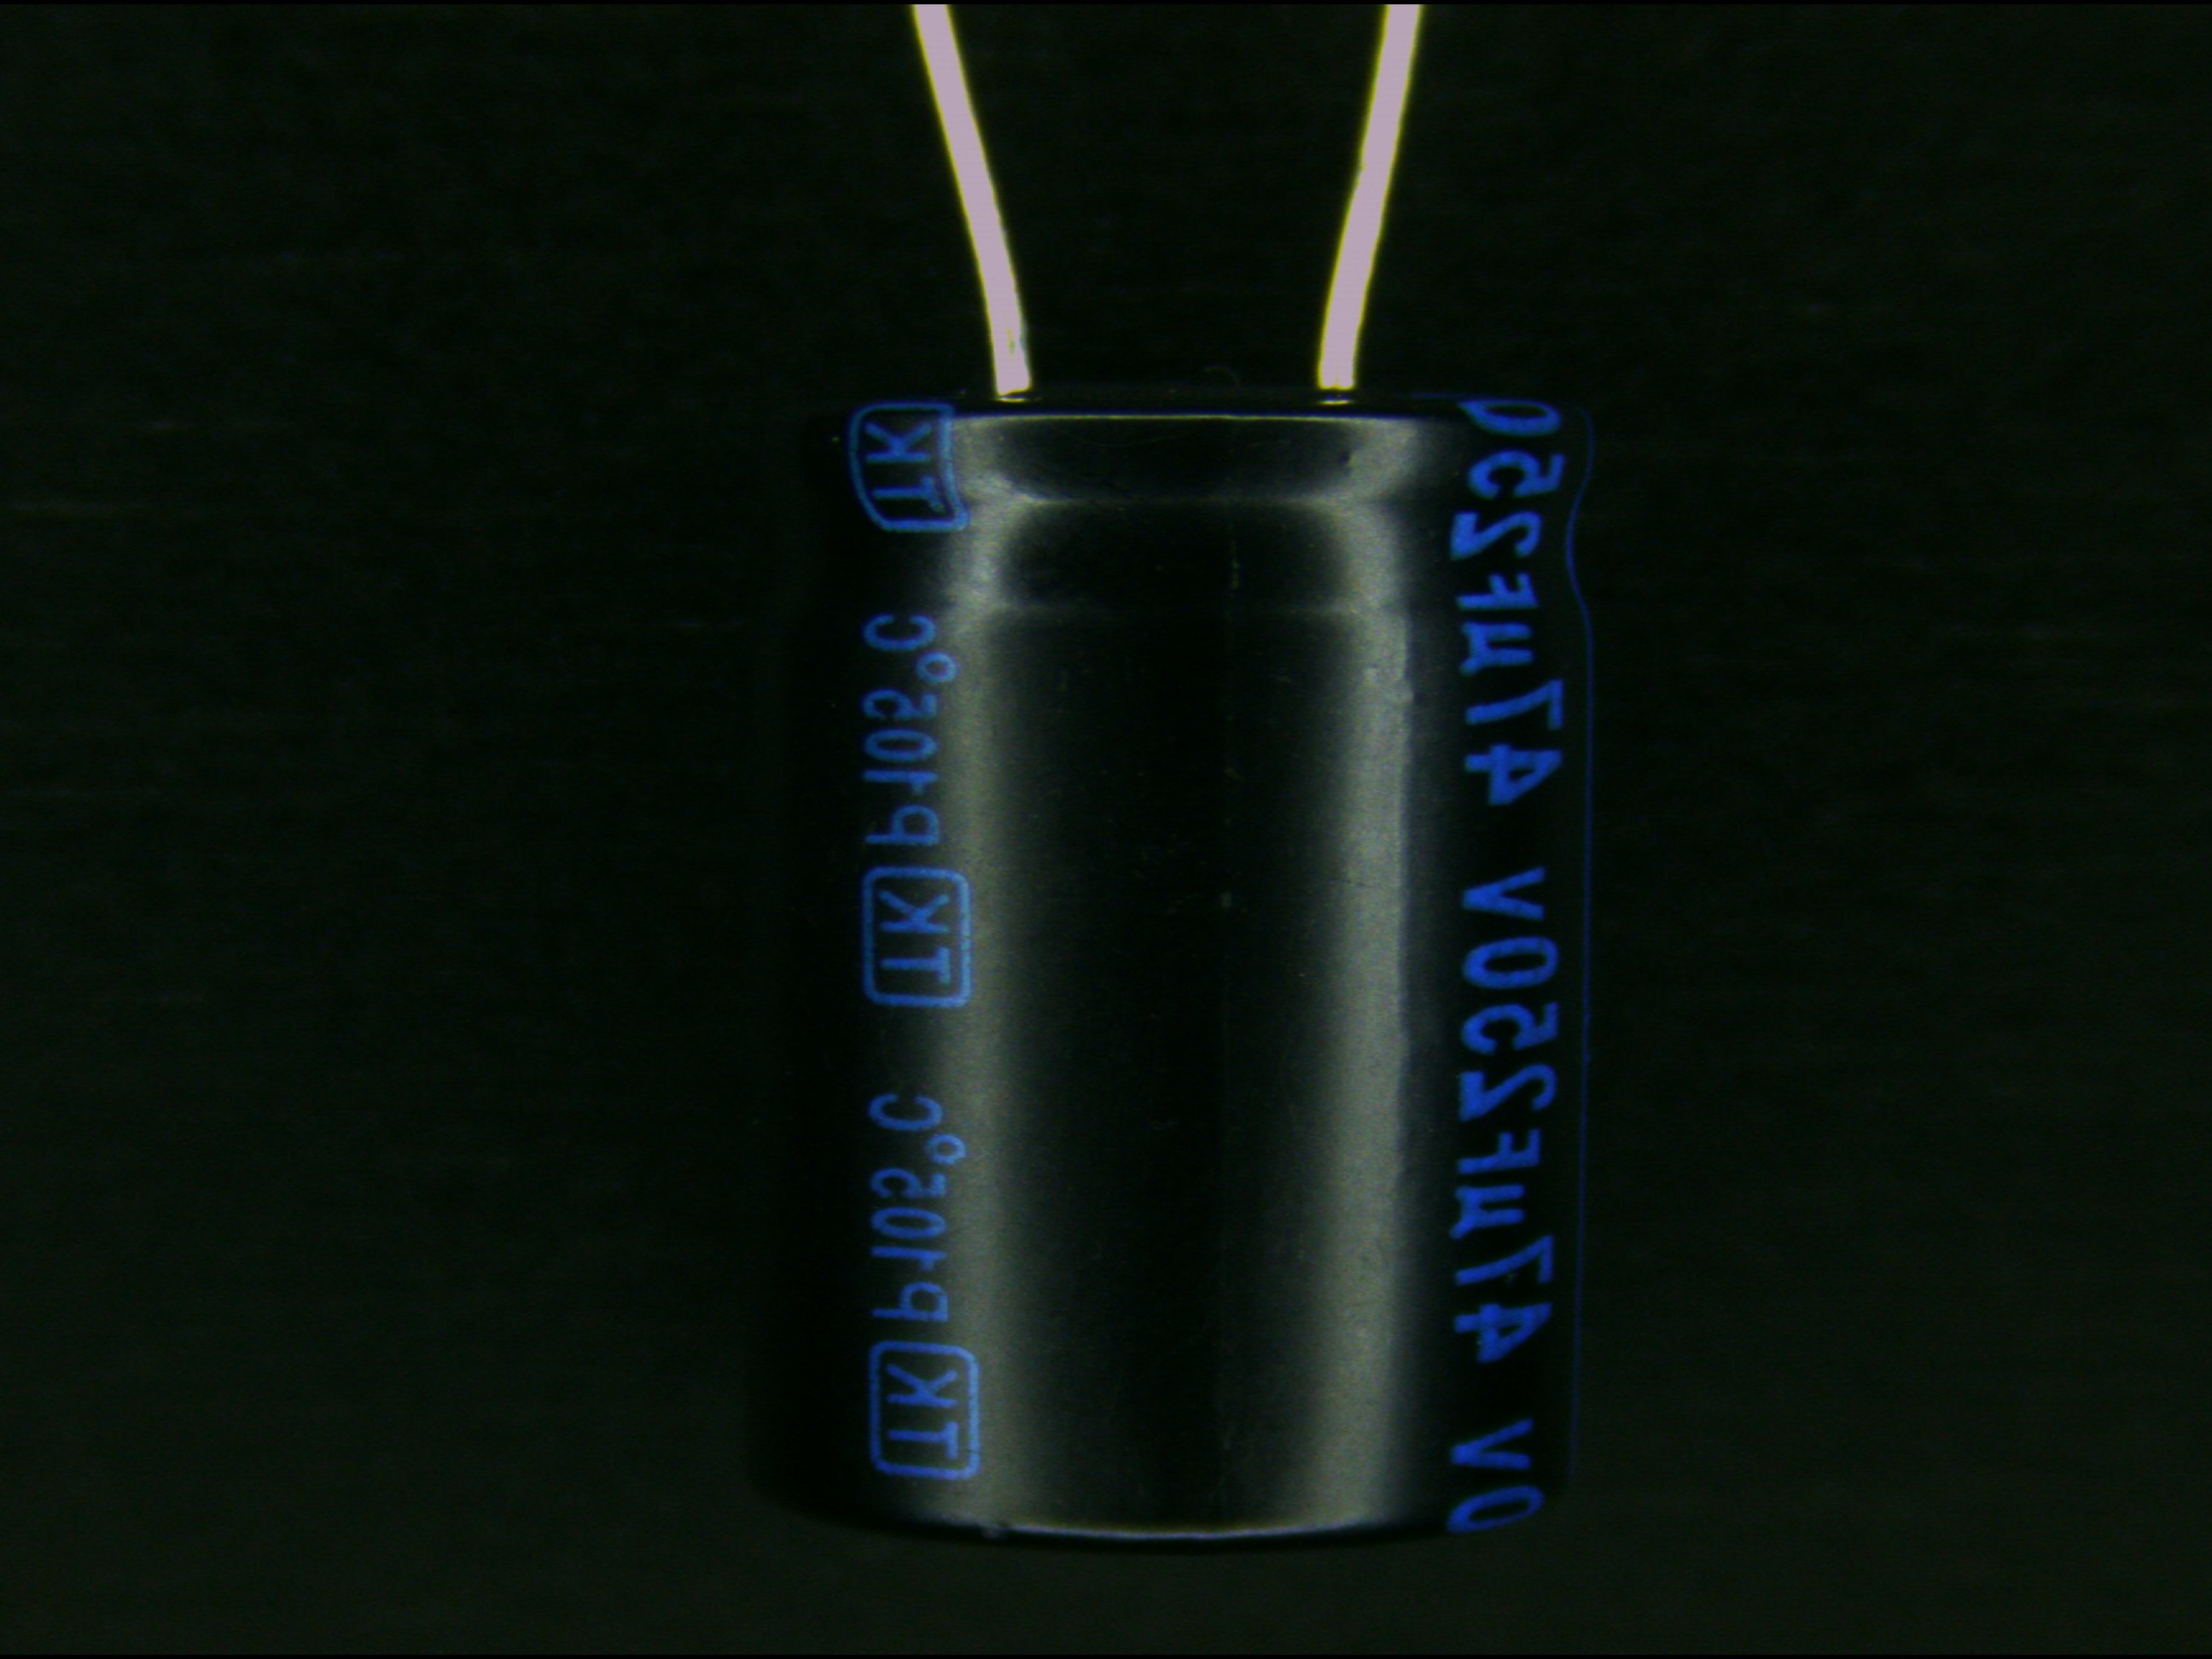c2: (742, 268, 1601, 1542)
